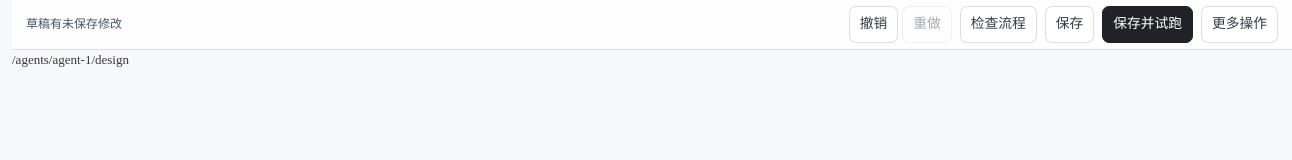
Test: Builder Run commands › saves a dirty draft once and opens only the returned valid revision
The width and height of the screenshot is (1292, 160).
Click the button "保存并试跑": (1148, 24) [1102, 6, 1193, 43]
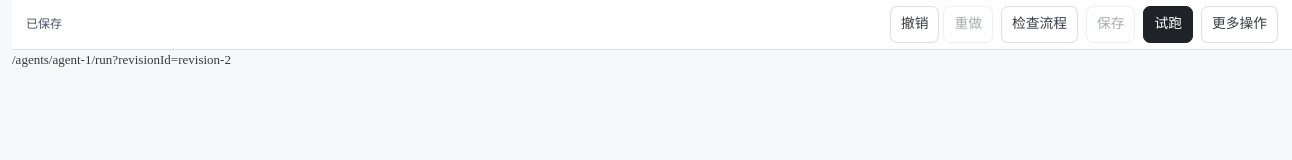
Now the text named "location" reads "/agents/agent-1/run?revisionId=revision-2", box [12, 52, 231, 67]
